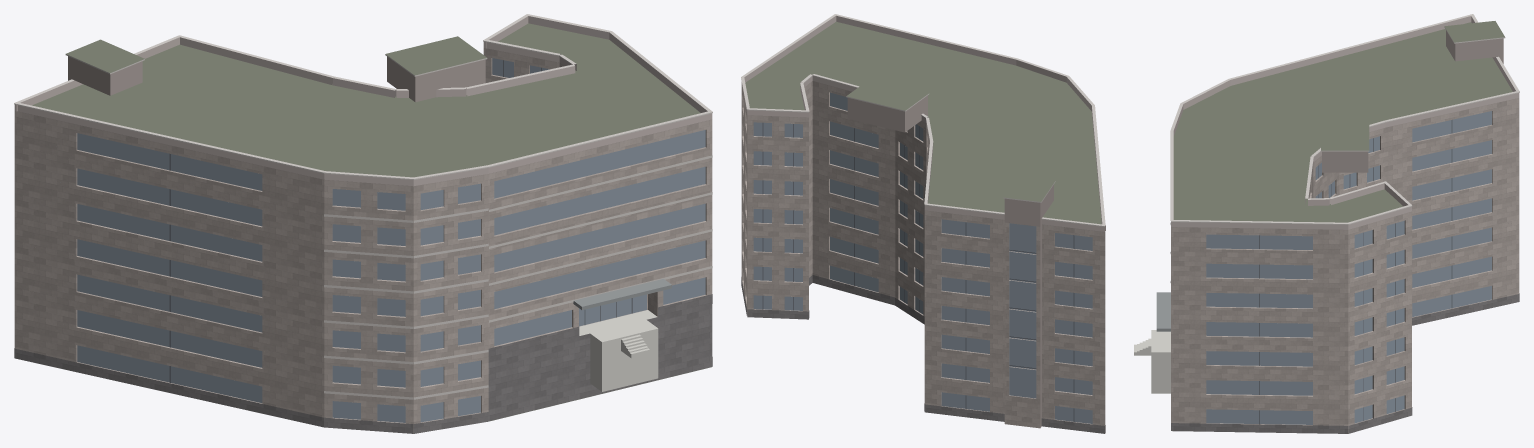
3 views of the same model, side by side, from view 1: azimuth 30°, elevation 25°; view 2: azimuth 150°, elevation 25°; view 3: azimuth 270°, elevation 25° (orthographic). The views are drawn at different scales.
Parts seen in each view (by area): view 1: edu12__wall, edu12__glass, edu12__roof, edu12__base, edu12__parapet, edu12__trim, edu12__entranceStair, edu12__wall2, edu12__canopy; view 2: edu12__wall, edu12__roof, edu12__glass, edu12__parapet, edu12__wall2, edu12__trim, edu12__base, edu12__frame; view 3: edu12__wall, edu12__roof, edu12__glass, edu12__parapet, edu12__trim, edu12__base, edu12__wall2, edu12__entranceStair, edu12__canopy, edu12__frame.
Boxes of the visible parts, bbox=[...] form: edu12__wall: bbox=[14, 48, 712, 433]; edu12__glass: bbox=[77, 58, 705, 422]; edu12__roof: bbox=[32, 23, 711, 421]; edu12__base: bbox=[14, 294, 712, 433]; edu12__parapet: bbox=[14, 16, 712, 186]; edu12__trim: bbox=[14, 14, 712, 399]; edu12__entranceStair: bbox=[579, 310, 658, 391]; edu12__wall2: bbox=[68, 56, 485, 102]; edu12__canopy: bbox=[573, 279, 671, 310]; edu12__wall: bbox=[741, 81, 1105, 433]; edu12__roof: bbox=[745, 21, 1101, 224]; edu12__glass: bbox=[753, 92, 1092, 423]; edu12__parapet: bbox=[741, 15, 1105, 231]; edu12__wall2: bbox=[847, 95, 1053, 427]; edu12__trim: bbox=[741, 14, 1105, 226]; edu12__base: bbox=[741, 274, 1105, 433]; edu12__frame: bbox=[762, 123, 1074, 421]; edu12__wall: bbox=[1171, 98, 1519, 433]; edu12__roof: bbox=[1172, 21, 1512, 431]; edu12__glass: bbox=[1206, 111, 1491, 424]; edu12__parapet: bbox=[1171, 16, 1519, 229]; edu12__trim: bbox=[1170, 14, 1519, 282]; edu12__base: bbox=[1171, 293, 1519, 433]; edu12__wall2: bbox=[1322, 30, 1503, 172]; edu12__entranceStair: bbox=[1134, 330, 1170, 393]; edu12__canopy: bbox=[1156, 292, 1170, 331]; edu12__frame: bbox=[1259, 120, 1452, 424].
Size of the model in its own units: 55.67 by 28.37 by 43.21.
11 materials, 2 textured.
